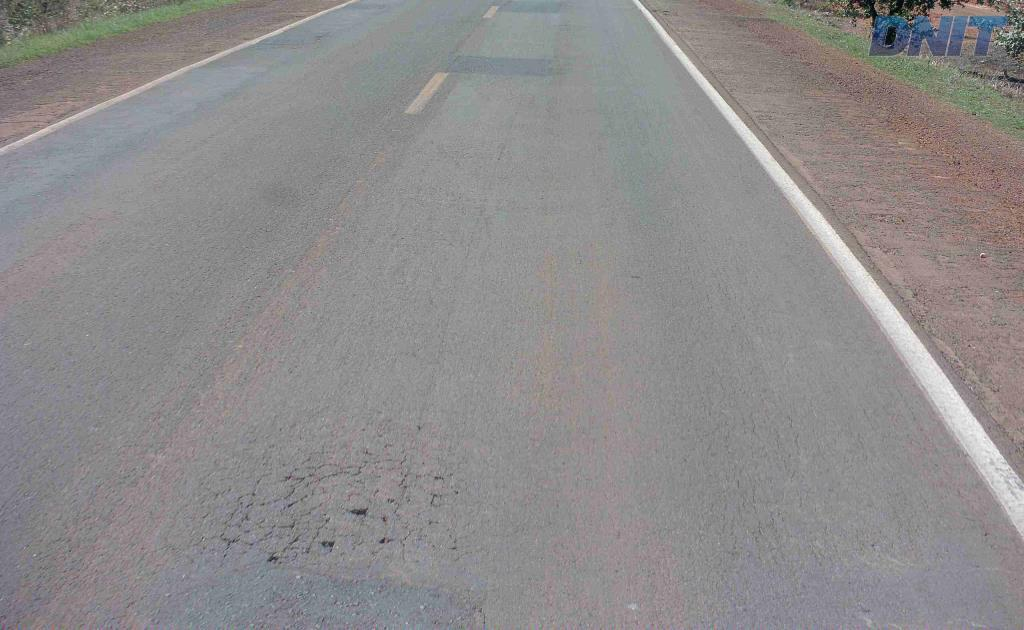crack: (256, 506, 316, 565)
